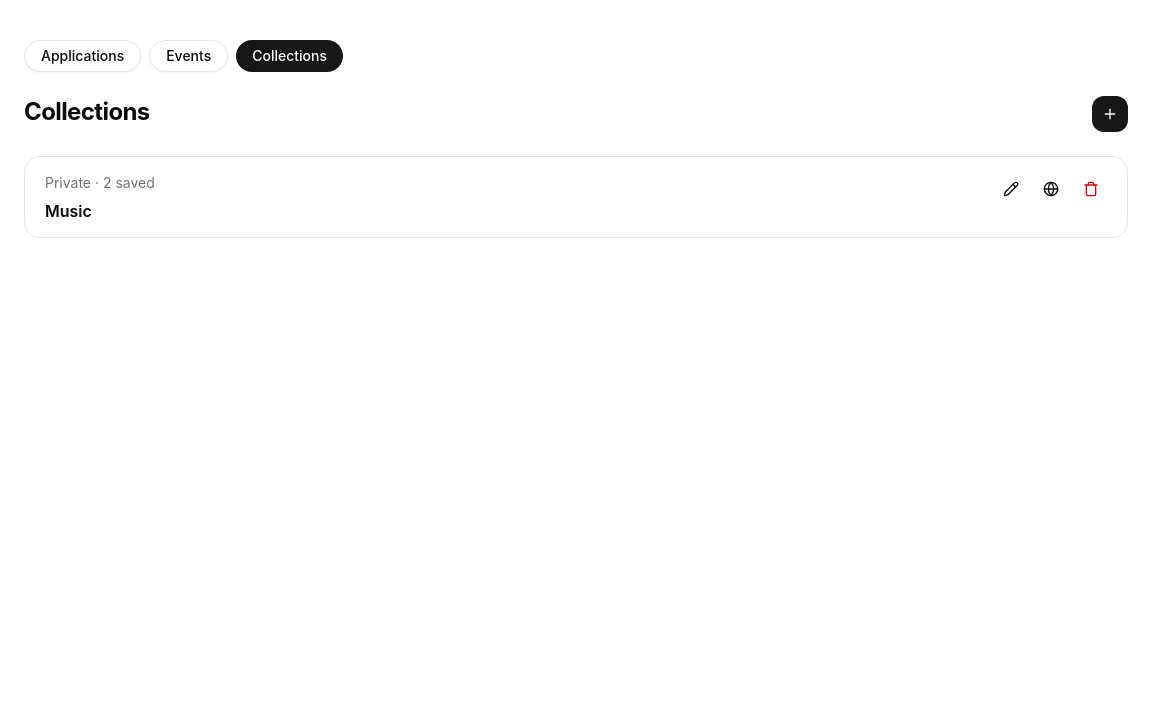
Test: [phase:6] [regression:always] YouCollectionsPage › TC-COL-017: creates a collection from the Collections page
expect the link "Music" is shown: met, box [45,201,92,221]
Click the button named "New collection".
click(1110, 114)  # box [1092,96,1128,132]
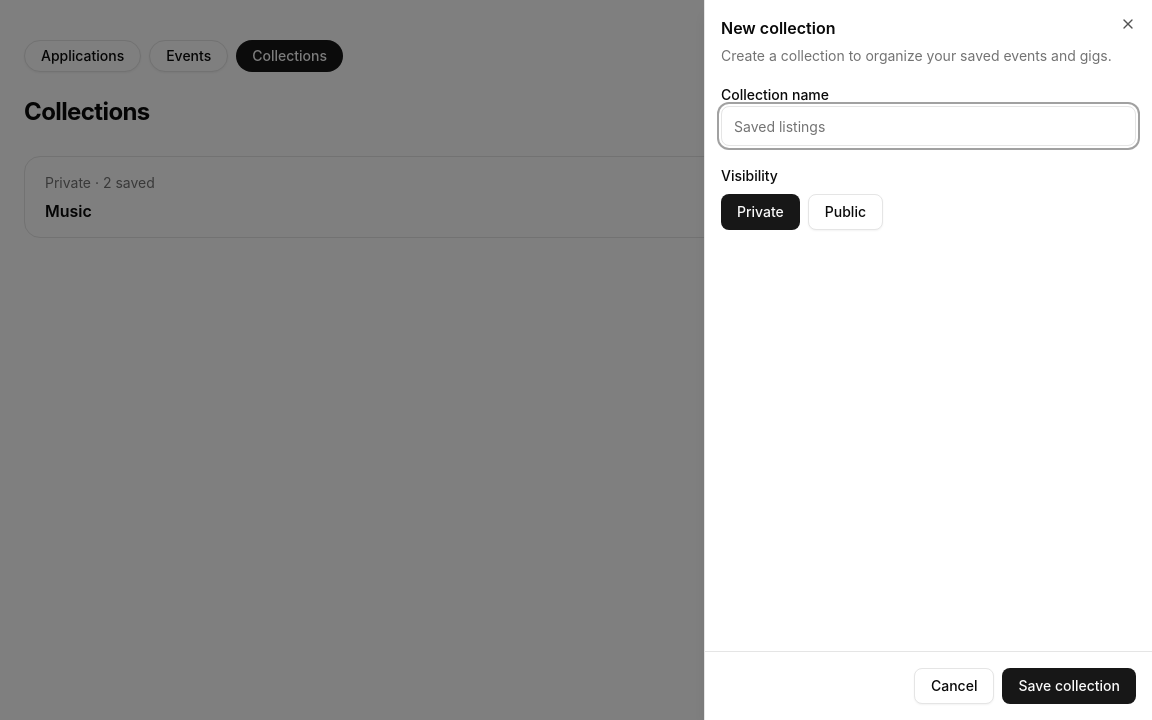
expect the dialog is shown: met, box [704,0,1151,719]
expect the heading "New collection" is shown: met, box [721,18,835,38]
Type "Must See" into the field labelled "Collection name".
click(928, 126); type("Must See")  # box [721,106,1136,146]
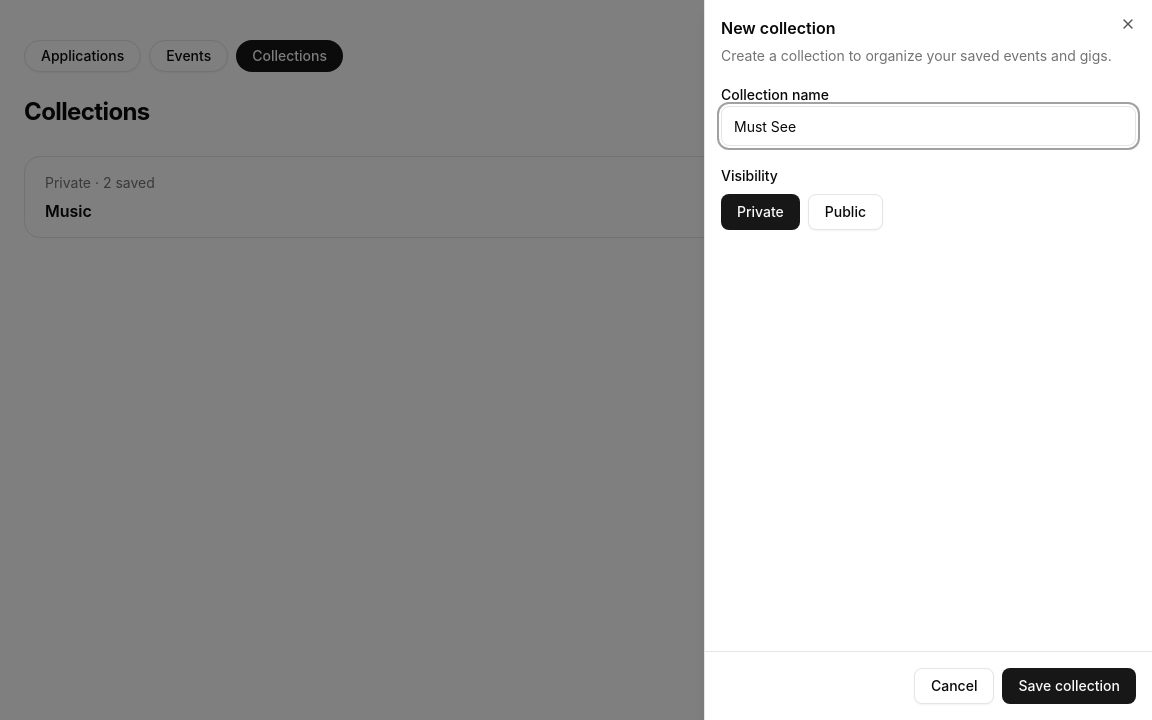
Click the button "Public".
click(845, 212)  # box [808,194,883,230]
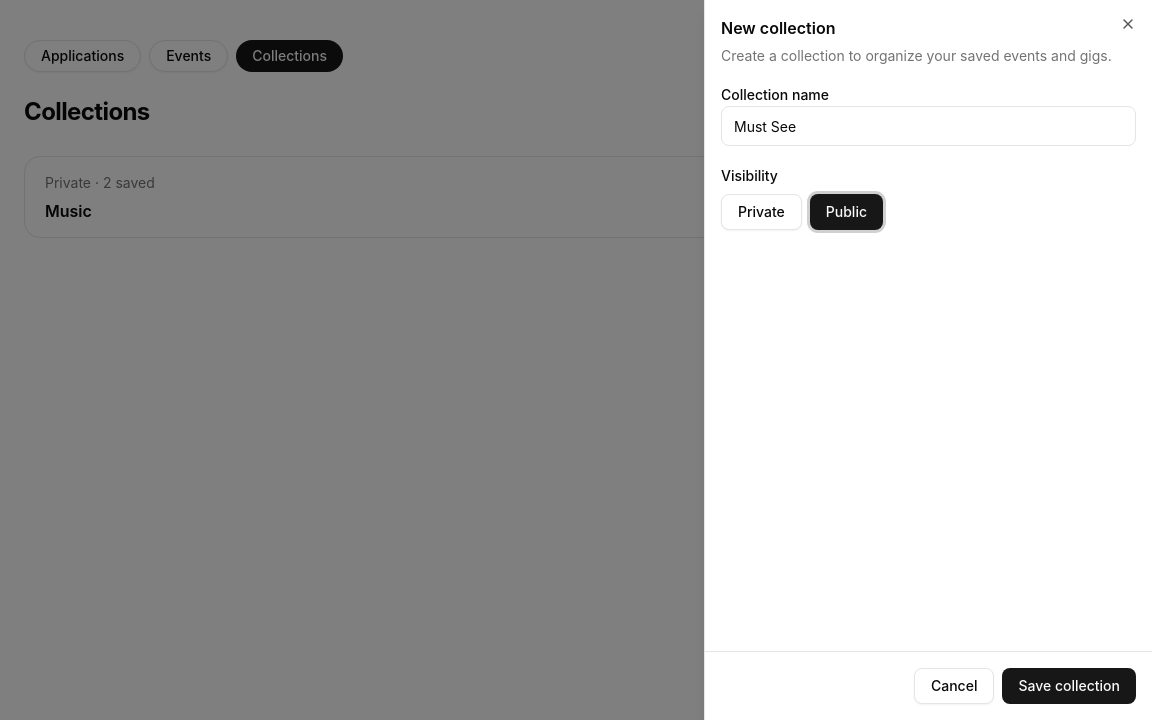
Click the button "Save collection".
click(1069, 686)  # box [1002,668,1136,704]
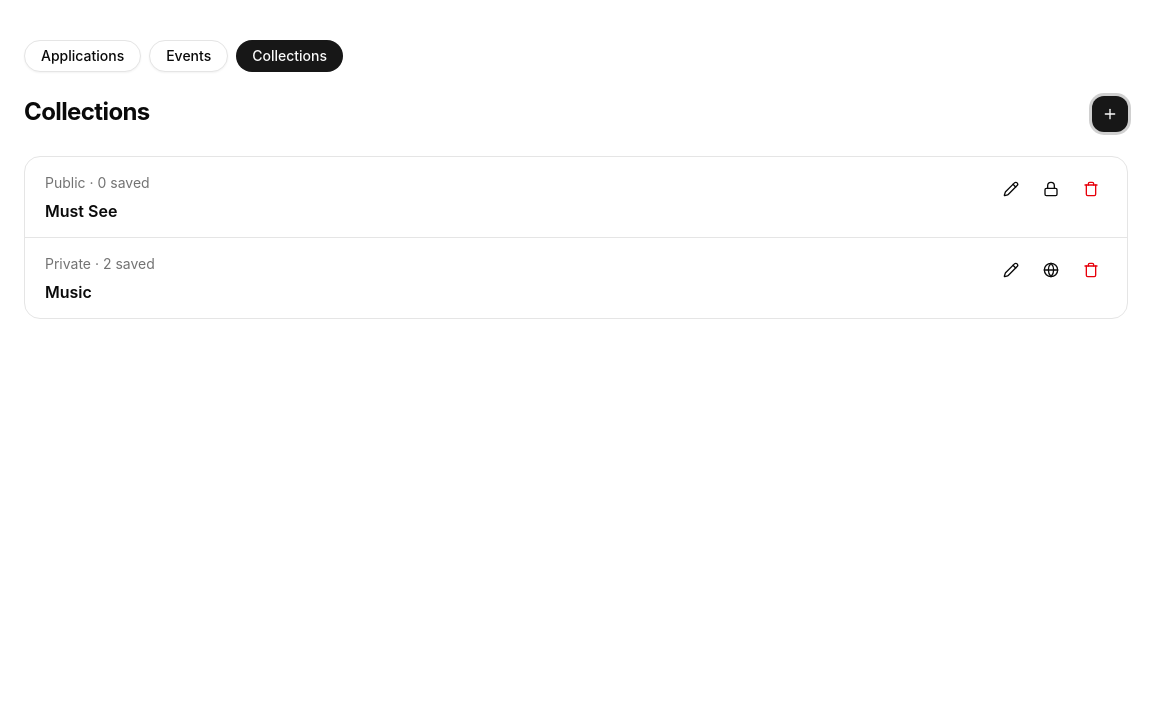
expect the text "Public · 0 saved" is shown: met, box [45,173,150,193]
